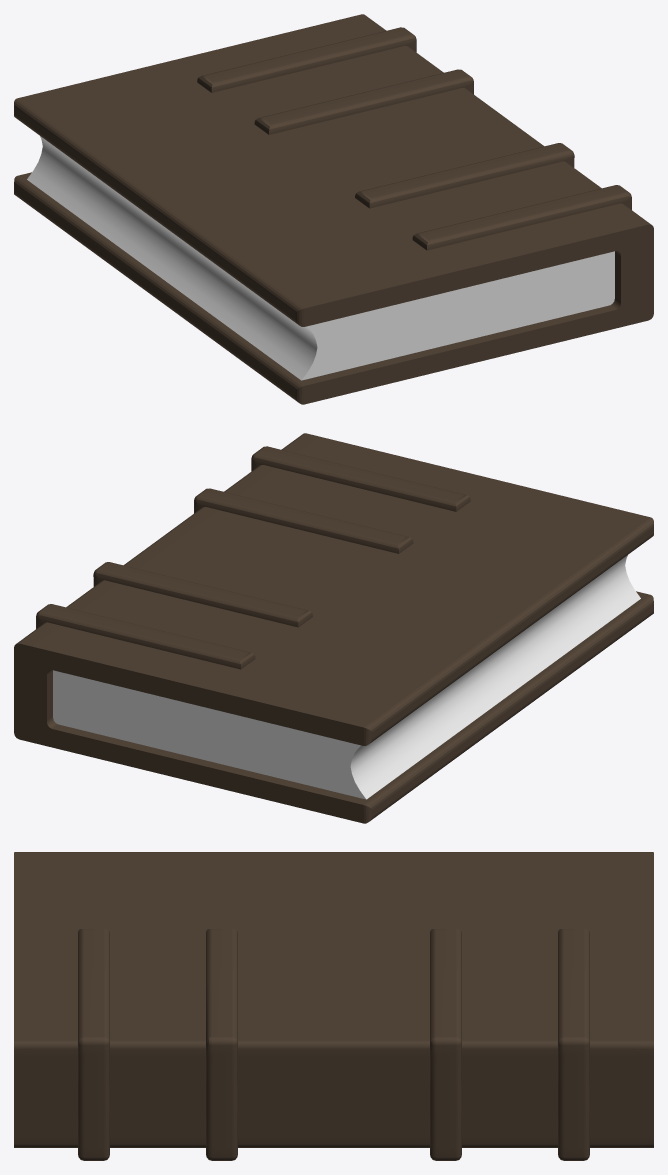
File: Book.fbx
3 renders of one model, top to bottom at view 1: azimuth 30°, elevation 25°; view 2: azimuth 150°, elevation 25°; view 3: azimuth 270°, elevation 25°, orthographic. The views are drawn at different scales.
Visible parts, largest first — view 1: Pages, Outer; view 2: Pages, Outer; view 3: Pages.
Part boxes in pixels (bbox=[...]): Pages: bbox=[14, 14, 653, 404]; Outer: bbox=[27, 136, 614, 380]; Pages: bbox=[14, 433, 653, 823]; Outer: bbox=[53, 555, 640, 799]; Pages: bbox=[14, 852, 653, 1160].
Bounding box in the file's own units: 6.01 × 1.75 × 8.21.
